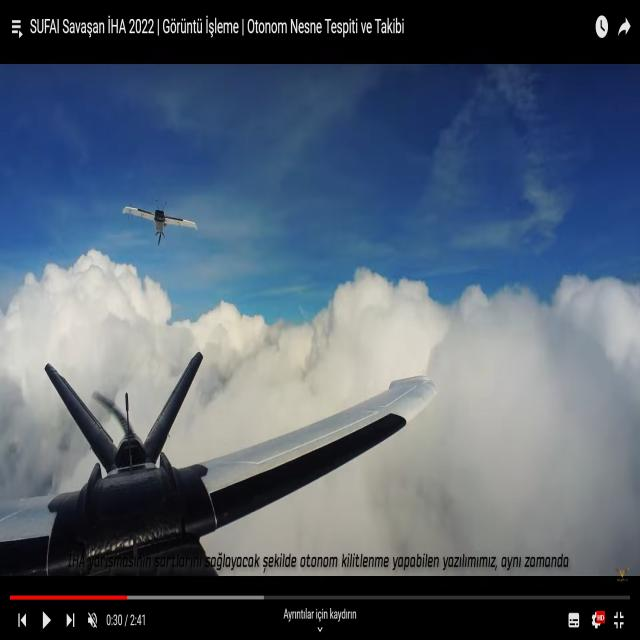iha: (152, 202, 167, 247)
